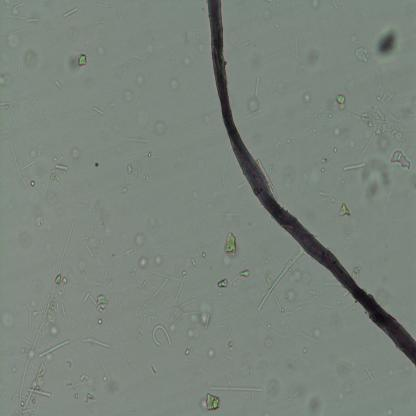Background material: (361, 94, 410, 146), (359, 158, 395, 206), (80, 194, 110, 240), (374, 25, 404, 63), (299, 44, 322, 72), (390, 148, 413, 171), (66, 52, 89, 75), (2, 1, 26, 20), (306, 391, 324, 415), (49, 190, 66, 215), (282, 161, 297, 189), (200, 393, 222, 412), (0, 307, 15, 334), (223, 231, 239, 255), (197, 302, 212, 327), (246, 94, 263, 116), (352, 43, 371, 62), (55, 275, 69, 299), (222, 338, 235, 363), (92, 294, 109, 313), (265, 380, 282, 398), (102, 376, 121, 392), (0, 97, 16, 115), (23, 52, 42, 67), (5, 34, 22, 50), (0, 70, 13, 88), (287, 357, 298, 378), (48, 171, 62, 186), (68, 147, 82, 162), (379, 136, 392, 152), (290, 270, 303, 286), (136, 255, 150, 269), (134, 231, 146, 247), (155, 121, 167, 137), (134, 71, 146, 86), (205, 345, 217, 360), (121, 90, 134, 103), (187, 326, 201, 338), (154, 253, 166, 267), (285, 291, 299, 303), (335, 95, 346, 110), (303, 90, 313, 106), (170, 76, 180, 92), (181, 54, 193, 67), (236, 269, 250, 280), (320, 156, 328, 174), (216, 277, 228, 289), (77, 372, 89, 384), (84, 391, 95, 404), (338, 204, 349, 216), (264, 338, 275, 350), (310, 0, 321, 11), (312, 328, 322, 340), (96, 45, 106, 57), (150, 362, 158, 376), (332, 126, 342, 137), (319, 188, 329, 198), (126, 163, 134, 175), (190, 255, 198, 267), (352, 269, 360, 281), (120, 183, 128, 194), (21, 345, 28, 357), (10, 364, 17, 374), (109, 102, 117, 110), (286, 136, 292, 146), (327, 109, 332, 121), (276, 138, 281, 149), (186, 347, 192, 356), (97, 319, 104, 326)
Cotton: (206, 0, 416, 366)
Glass filter fibre: (28, 222, 76, 364), (257, 247, 306, 314), (7, 139, 30, 192), (22, 363, 44, 410), (95, 252, 120, 289), (37, 338, 71, 359), (169, 298, 195, 324), (193, 220, 208, 265), (123, 52, 152, 73), (132, 296, 155, 322), (209, 384, 264, 394), (222, 144, 232, 197), (152, 324, 172, 347), (258, 160, 274, 188), (138, 151, 152, 182), (361, 131, 378, 156), (226, 42, 251, 58), (174, 275, 188, 303), (81, 336, 109, 350), (152, 278, 168, 299), (342, 162, 367, 174), (27, 387, 51, 399), (126, 135, 150, 144), (3, 27, 28, 35), (288, 386, 302, 400), (22, 160, 36, 173), (364, 365, 374, 383), (253, 76, 261, 98), (63, 7, 78, 18), (115, 1, 122, 23), (85, 244, 95, 258), (54, 162, 69, 171), (92, 106, 104, 116), (60, 300, 67, 316), (332, 0, 340, 12), (25, 18, 40, 24), (123, 249, 133, 256), (56, 81, 62, 90), (84, 294, 90, 302)
